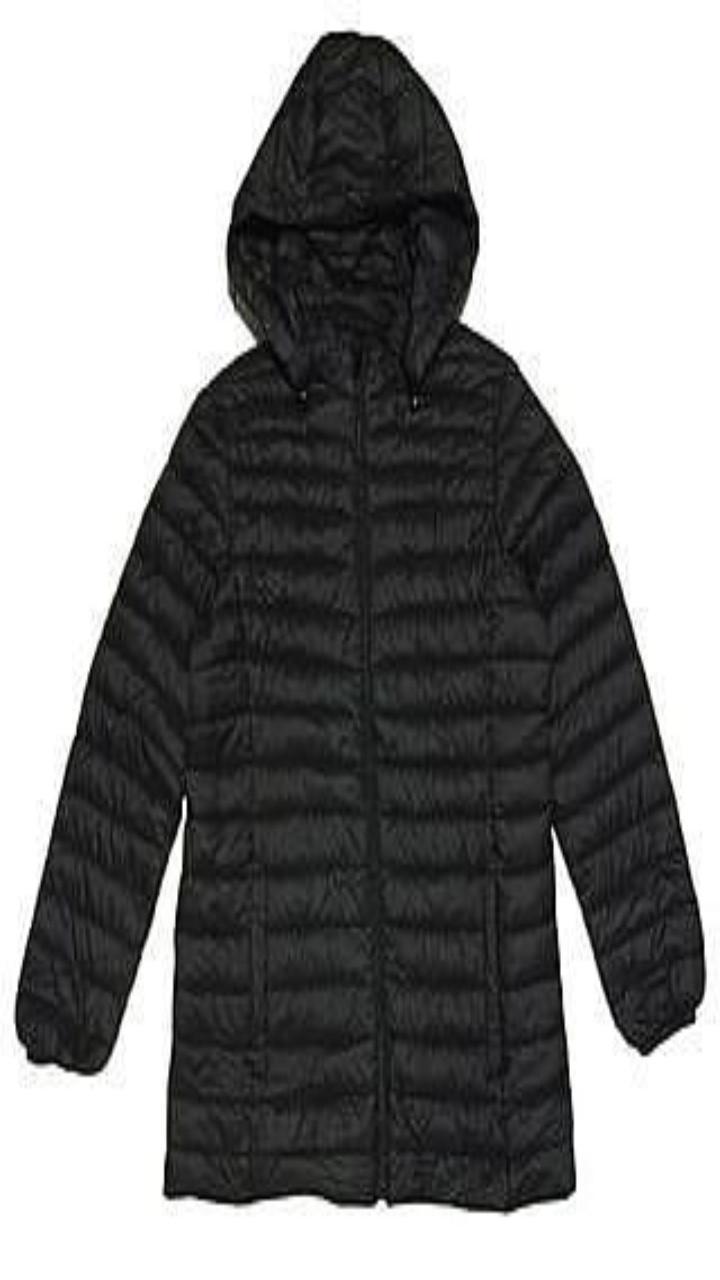Sports_Jacket: (16, 33, 704, 1208)
